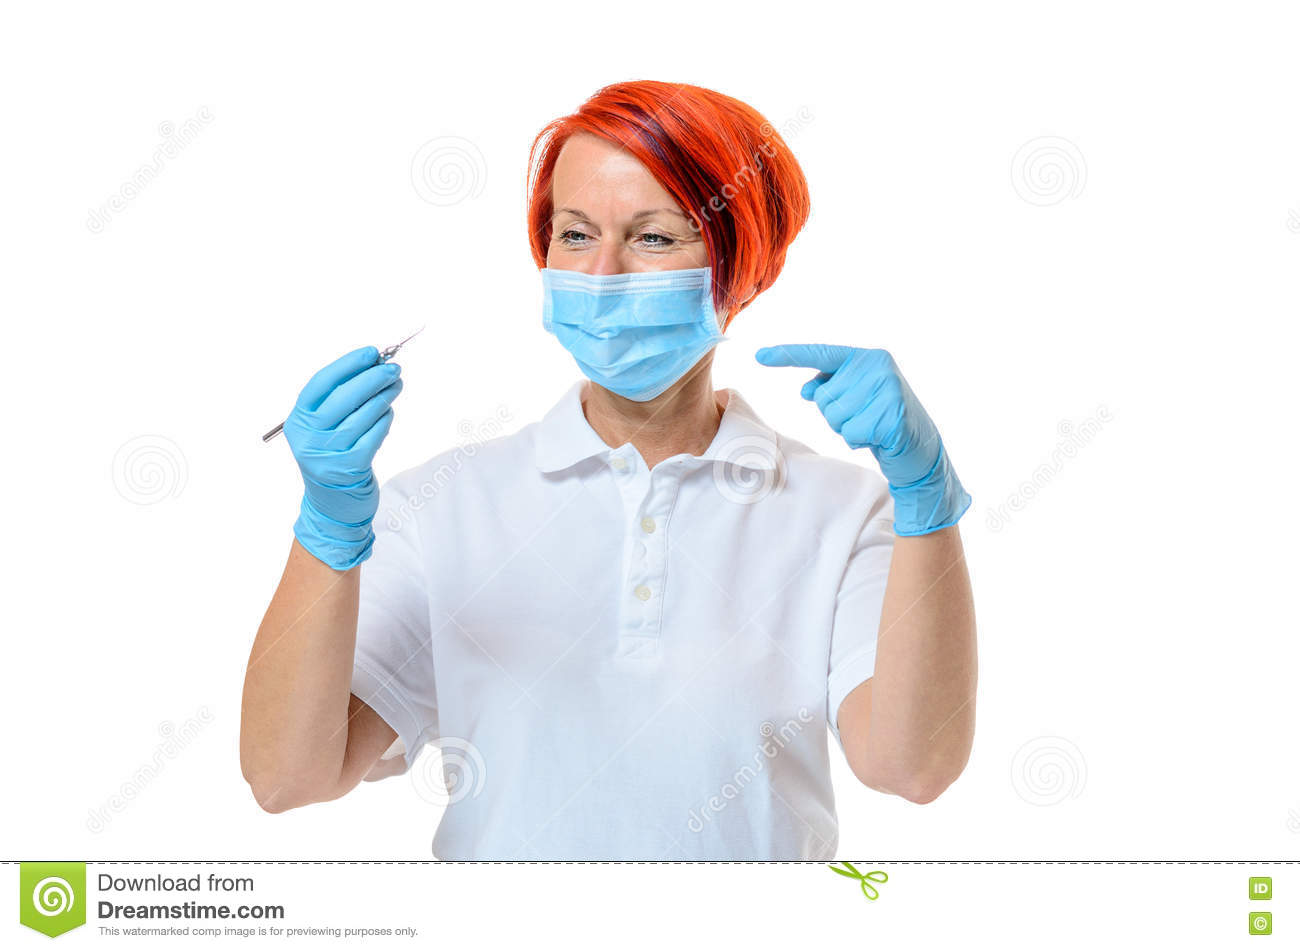mask: (534, 266, 737, 405)
